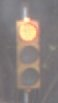Red: (13, 17, 48, 93)
